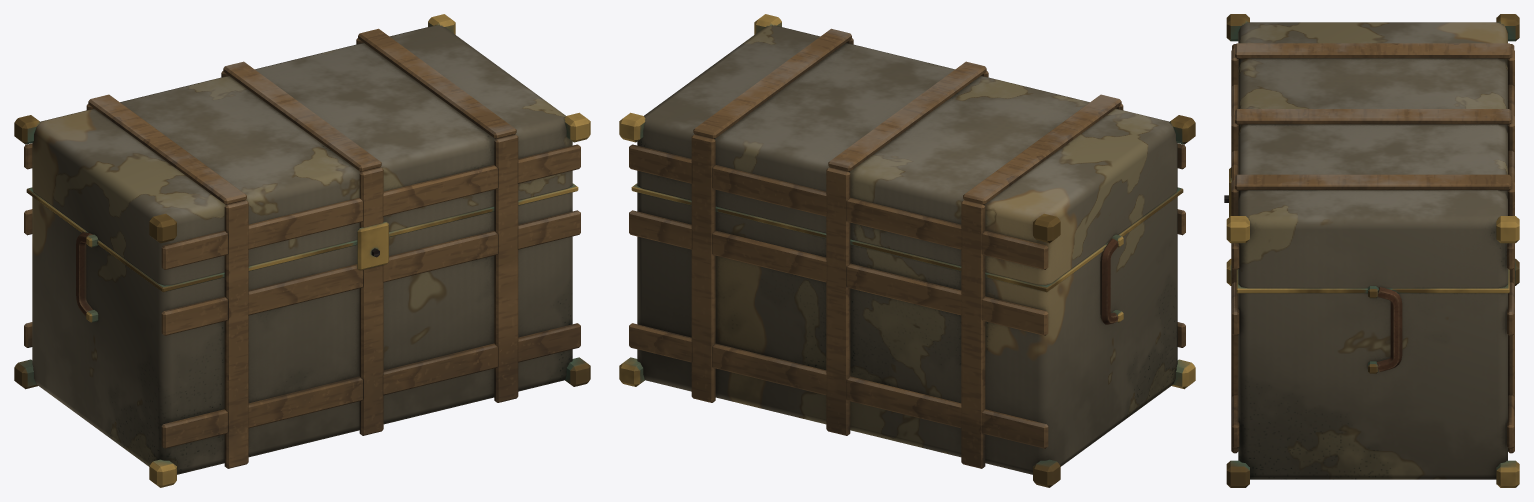
File: SteamerTrunk.fbx
The picture shows the model from 3 angles, left to right: view 1: azimuth 30°, elevation 25°; view 2: azimuth 150°, elevation 25°; view 3: azimuth 270°, elevation 25°; orthographic projection.
Visible parts, largest first — view 1: SteamerTrunk; view 2: SteamerTrunk; view 3: SteamerTrunk.
Part boxes in pixels (bbox=[...]): SteamerTrunk: bbox=[14, 14, 590, 487]; SteamerTrunk: bbox=[619, 14, 1195, 487]; SteamerTrunk: bbox=[1224, 14, 1519, 487].
Bounding box in the file's own units: 2.89 × 1.72 × 1.71.
1 material, 1 textured.
